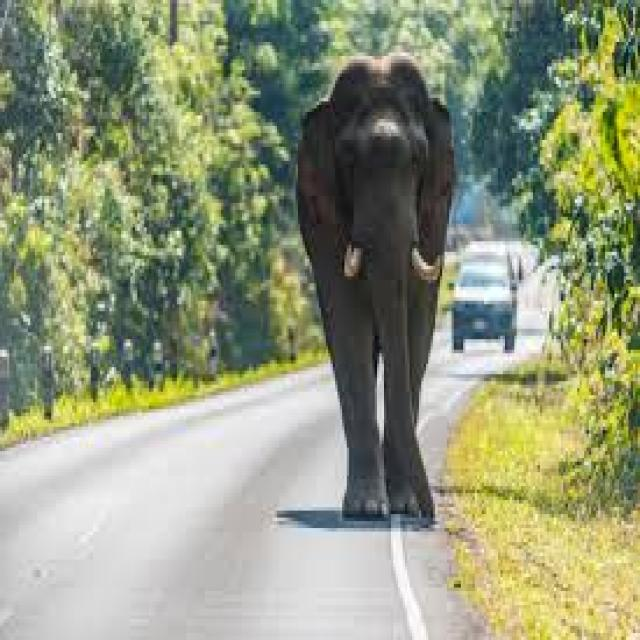Elephant: (290, 41, 480, 544)
